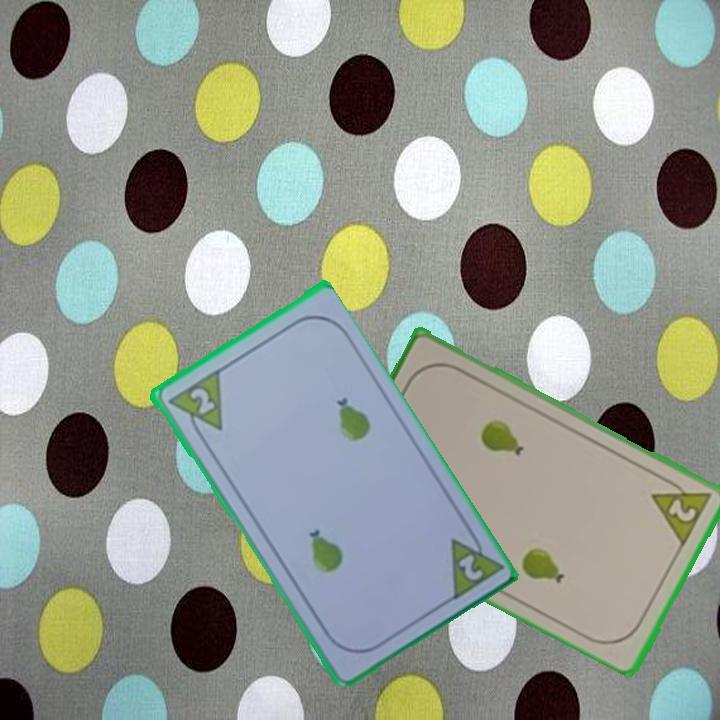2p: (648, 472, 716, 547), (453, 550, 486, 584), (185, 383, 217, 417)
